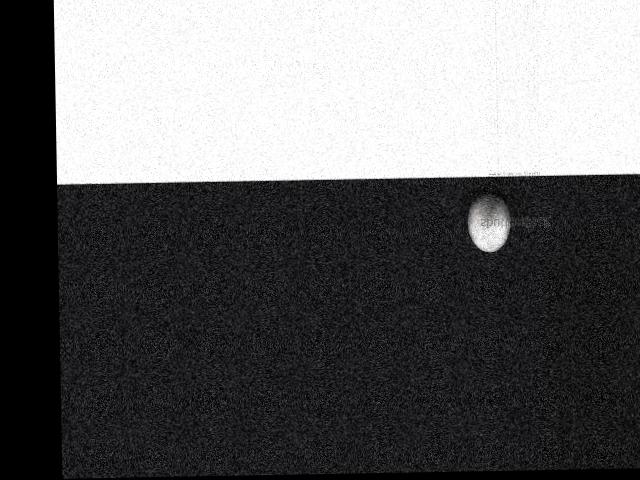egg: (467, 193, 510, 253)
